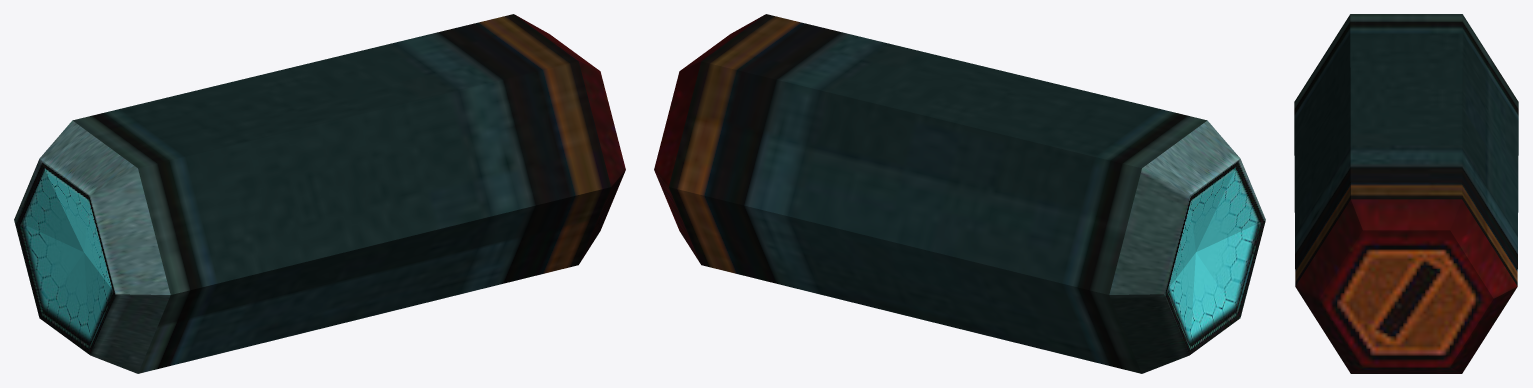
Rendered from missile_proj.FBX.
The picture shows the model from 3 angles, left to right: view 1: azimuth 30°, elevation 25°; view 2: azimuth 150°, elevation 25°; view 3: azimuth 270°, elevation 25°; orthographic projection. The views are drawn at different scales.
Visible parts, largest first — view 1: Missile; view 2: Missile; view 3: Missile.
Boxes of the visible parts, x1,y1,x2,y2 form: Missile: (14,14,625,373); Missile: (654,14,1265,373); Missile: (1294,14,1518,373).
Bounding box in the file's own units: 26.64 × 11.85 × 10.26.
1 material, 1 textured.
